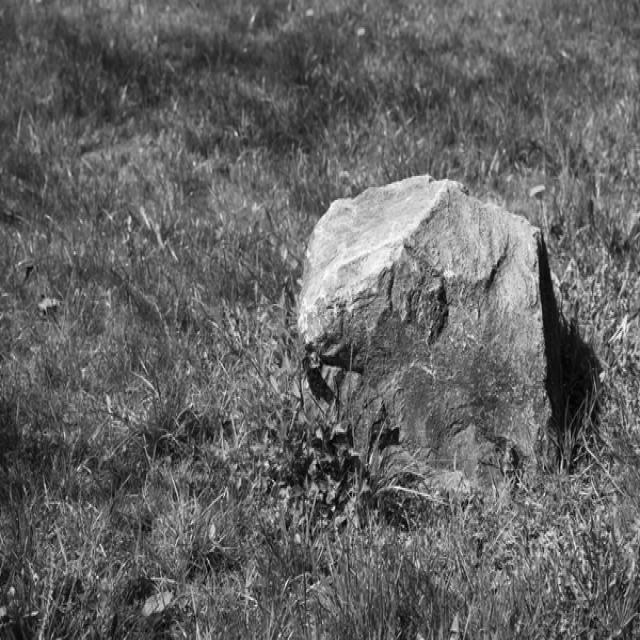Stone: (299, 176, 564, 487)
